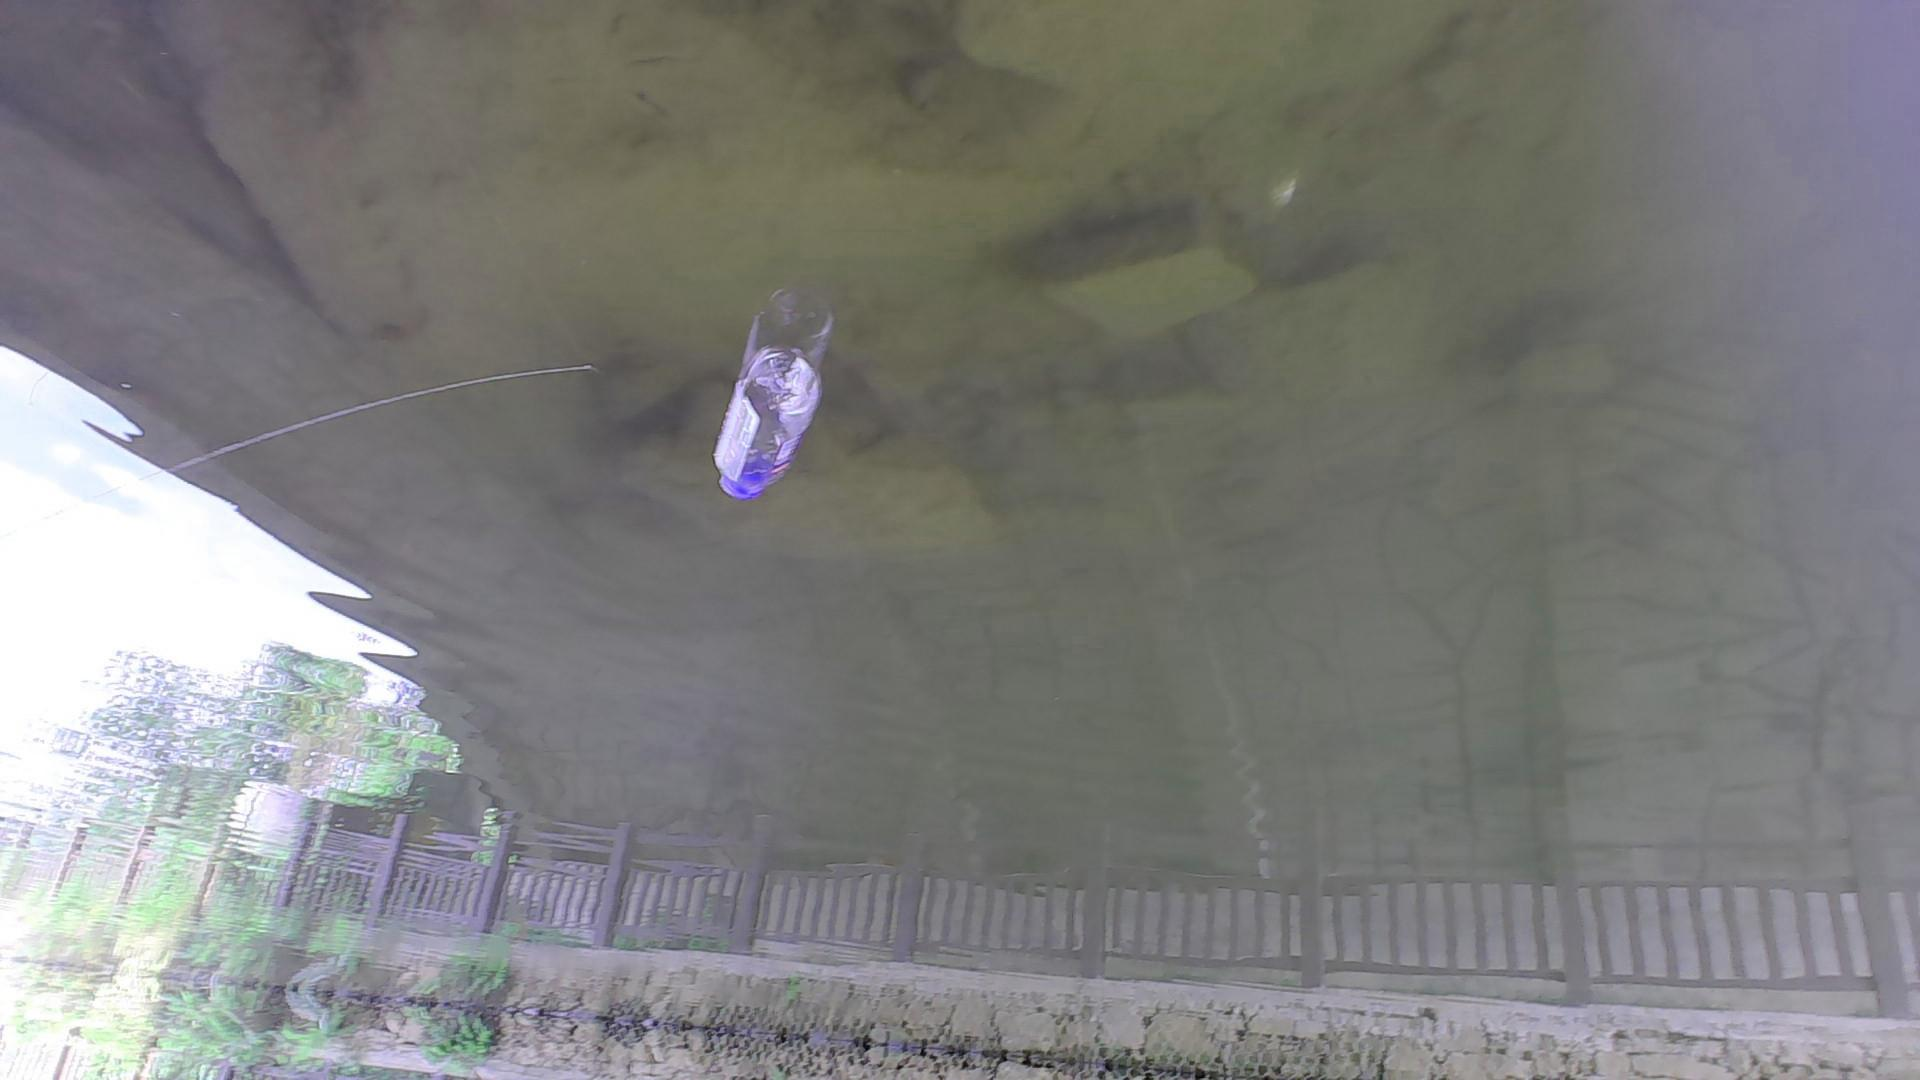Plastic: (709, 349, 823, 509)
